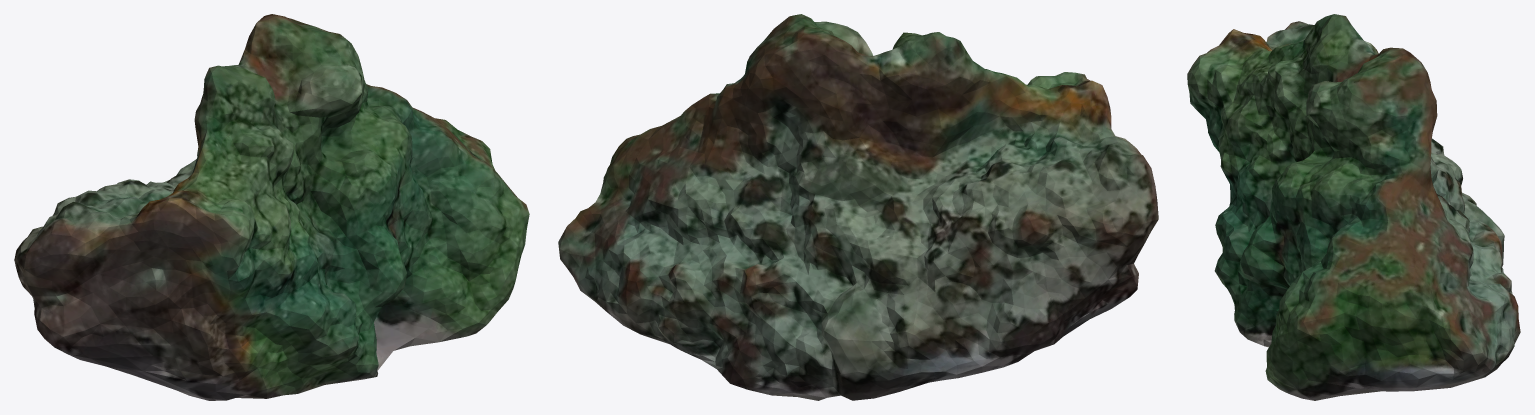
The picture shows the model from 3 angles, left to right: view 1: azimuth 30°, elevation 25°; view 2: azimuth 150°, elevation 25°; view 3: azimuth 270°, elevation 25°; orthographic projection. The views are drawn at different scales.
Size of the model in its own units: 0.0424 by 0.0253 by 0.0264.
Materials: 1 (1 with a texture image).
